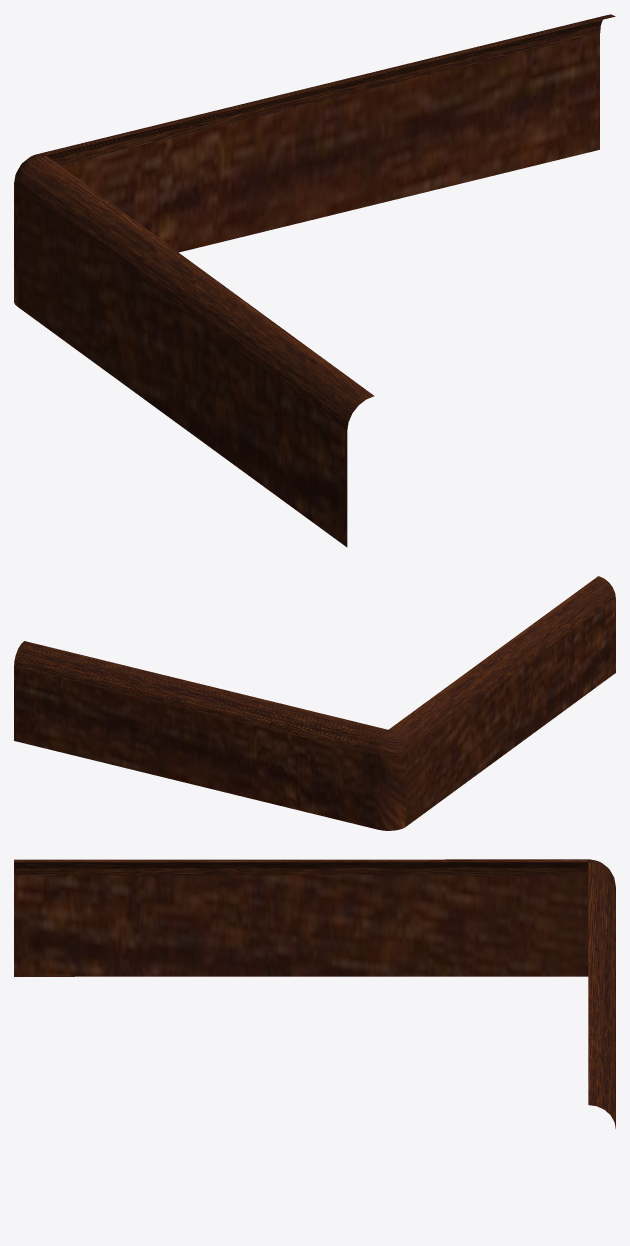
The model's file is baseboard_corner_exterior_unit.fbx.
3 views of the same model, one above another, from view 1: azimuth 30°, elevation 25°; view 2: azimuth 150°, elevation 25°; view 3: azimuth 270°, elevation 25° (orthographic). The views are drawn at different scales.
Parts seen in each view (by area): view 1: baseboard_corner_interior_unit; view 2: baseboard_corner_interior_unit; view 3: baseboard_corner_interior_unit.
Part boxes in pixels (left/top/right/bottom): baseboard_corner_interior_unit: left=14, top=14, right=615, bottom=547; baseboard_corner_interior_unit: left=14, top=576, right=615, bottom=830; baseboard_corner_interior_unit: left=14, top=859, right=615, bottom=1128.
Bounding box in the file's own units: 42.03 × 9.73 × 41.95.
